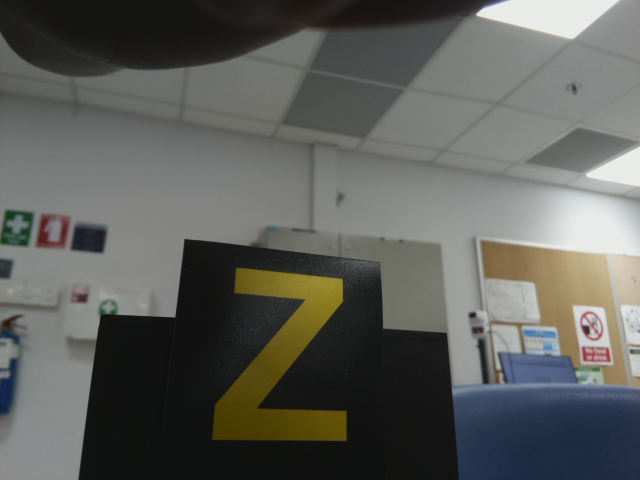z: (206, 259, 357, 453)
